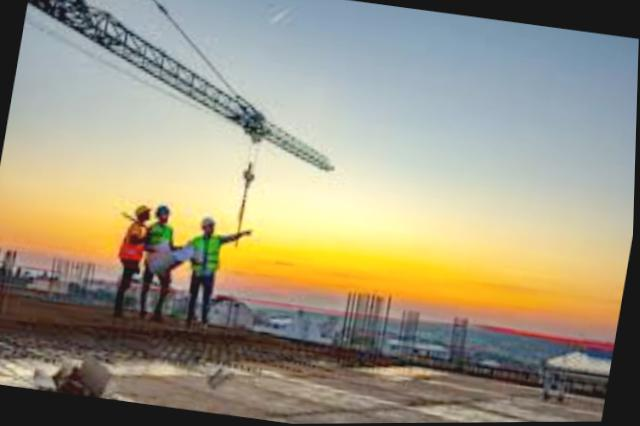helmet: (193, 210, 220, 231), (156, 197, 178, 220), (134, 202, 153, 221)
vest: (187, 229, 229, 279), (113, 218, 151, 270), (142, 220, 169, 275)
